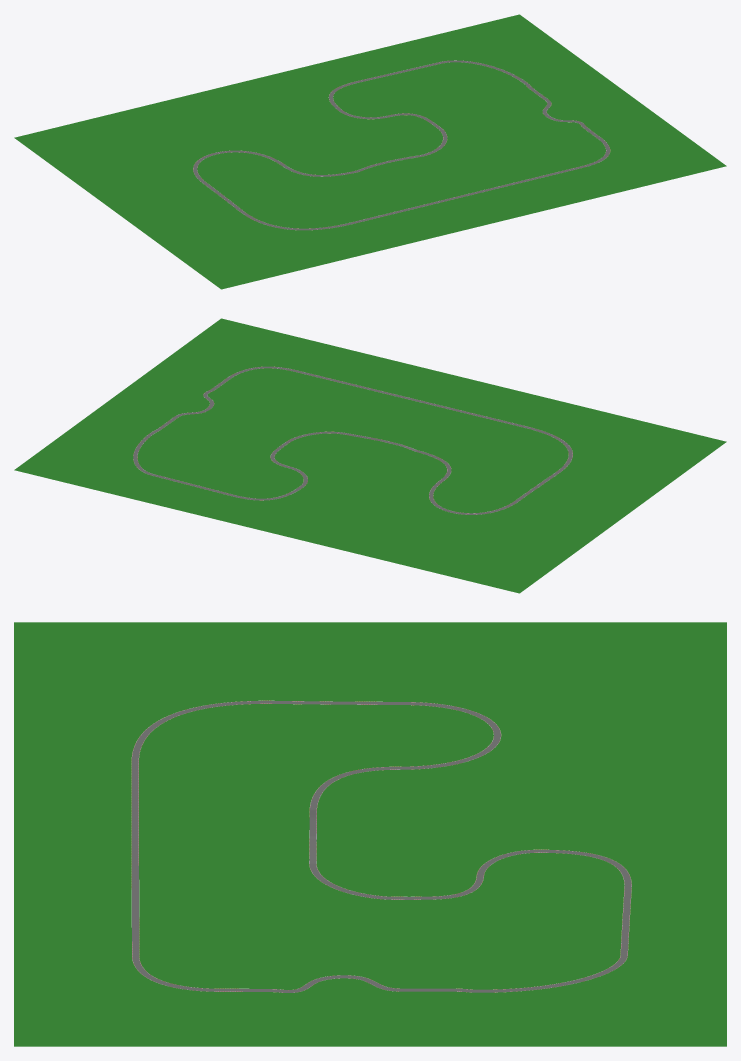
File: dev_track.glb
3 views of the same model, one above another, from view 1: azimuth 30°, elevation 25°; view 2: azimuth 150°, elevation 25°; view 3: azimuth 270°, elevation 25° (orthographic). The views are drawn at different scales.
Visible parts, largest first — view 1: Ground, Track; view 2: Ground, Track; view 3: Ground, Track.
Part boxes in pixels (x1,y1,x2,y2): Ground: [14, 14, 726, 289]; Track: [193, 60, 610, 230]; Ground: [14, 318, 726, 593]; Track: [133, 366, 572, 514]; Ground: [14, 622, 726, 1046]; Track: [131, 700, 631, 992].
Size of the model in its own units: 1183 by 4.39 by 840.
